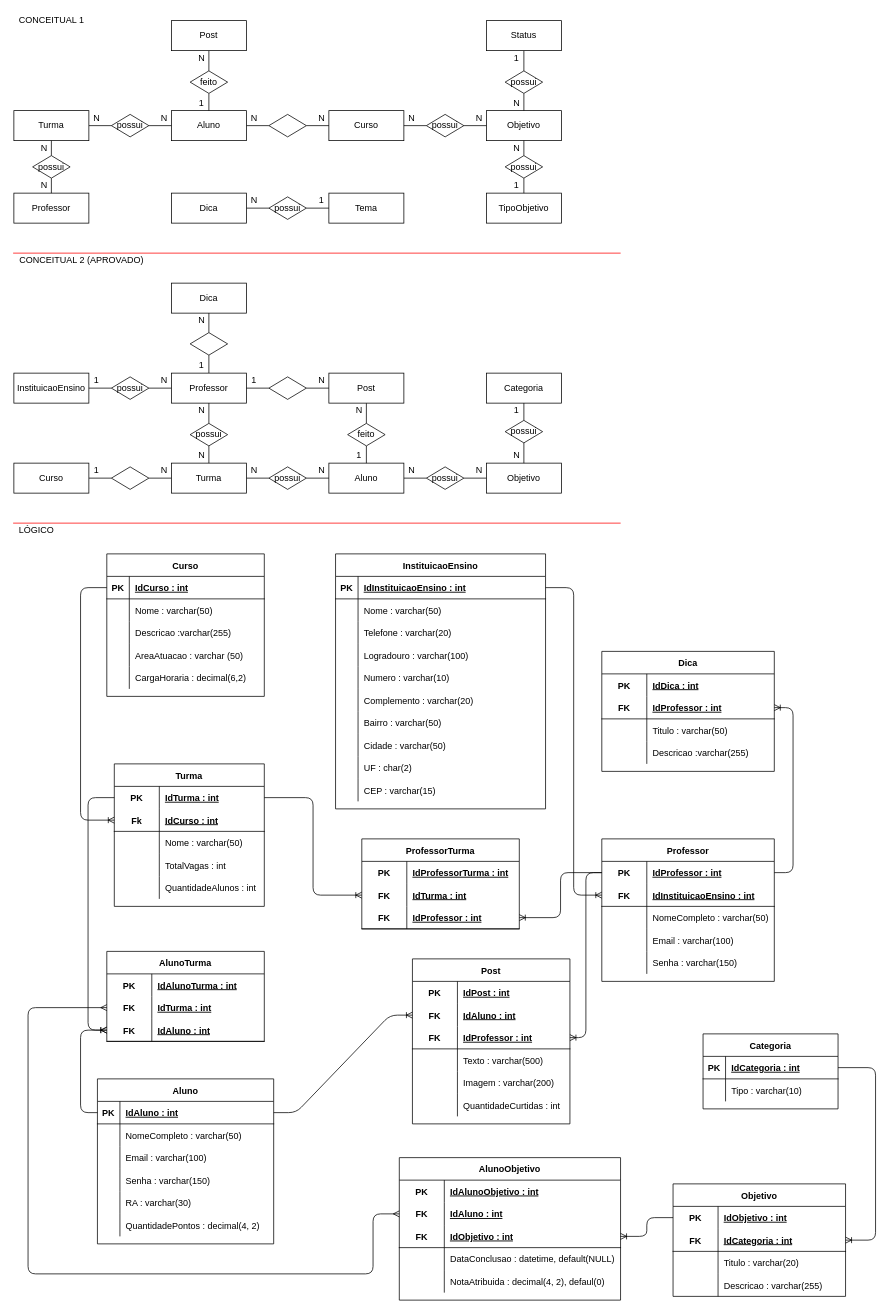
Image size: 895x1313. Some labels were removed from this diagram. The shapes that lost their labels are listed below. From the top down, each one's centre as x and y in pixels, then its label:
the point at 287,125: cursa
the point at 208,343: posta
the point at 287,387: faz
the point at 130,477: cursado
